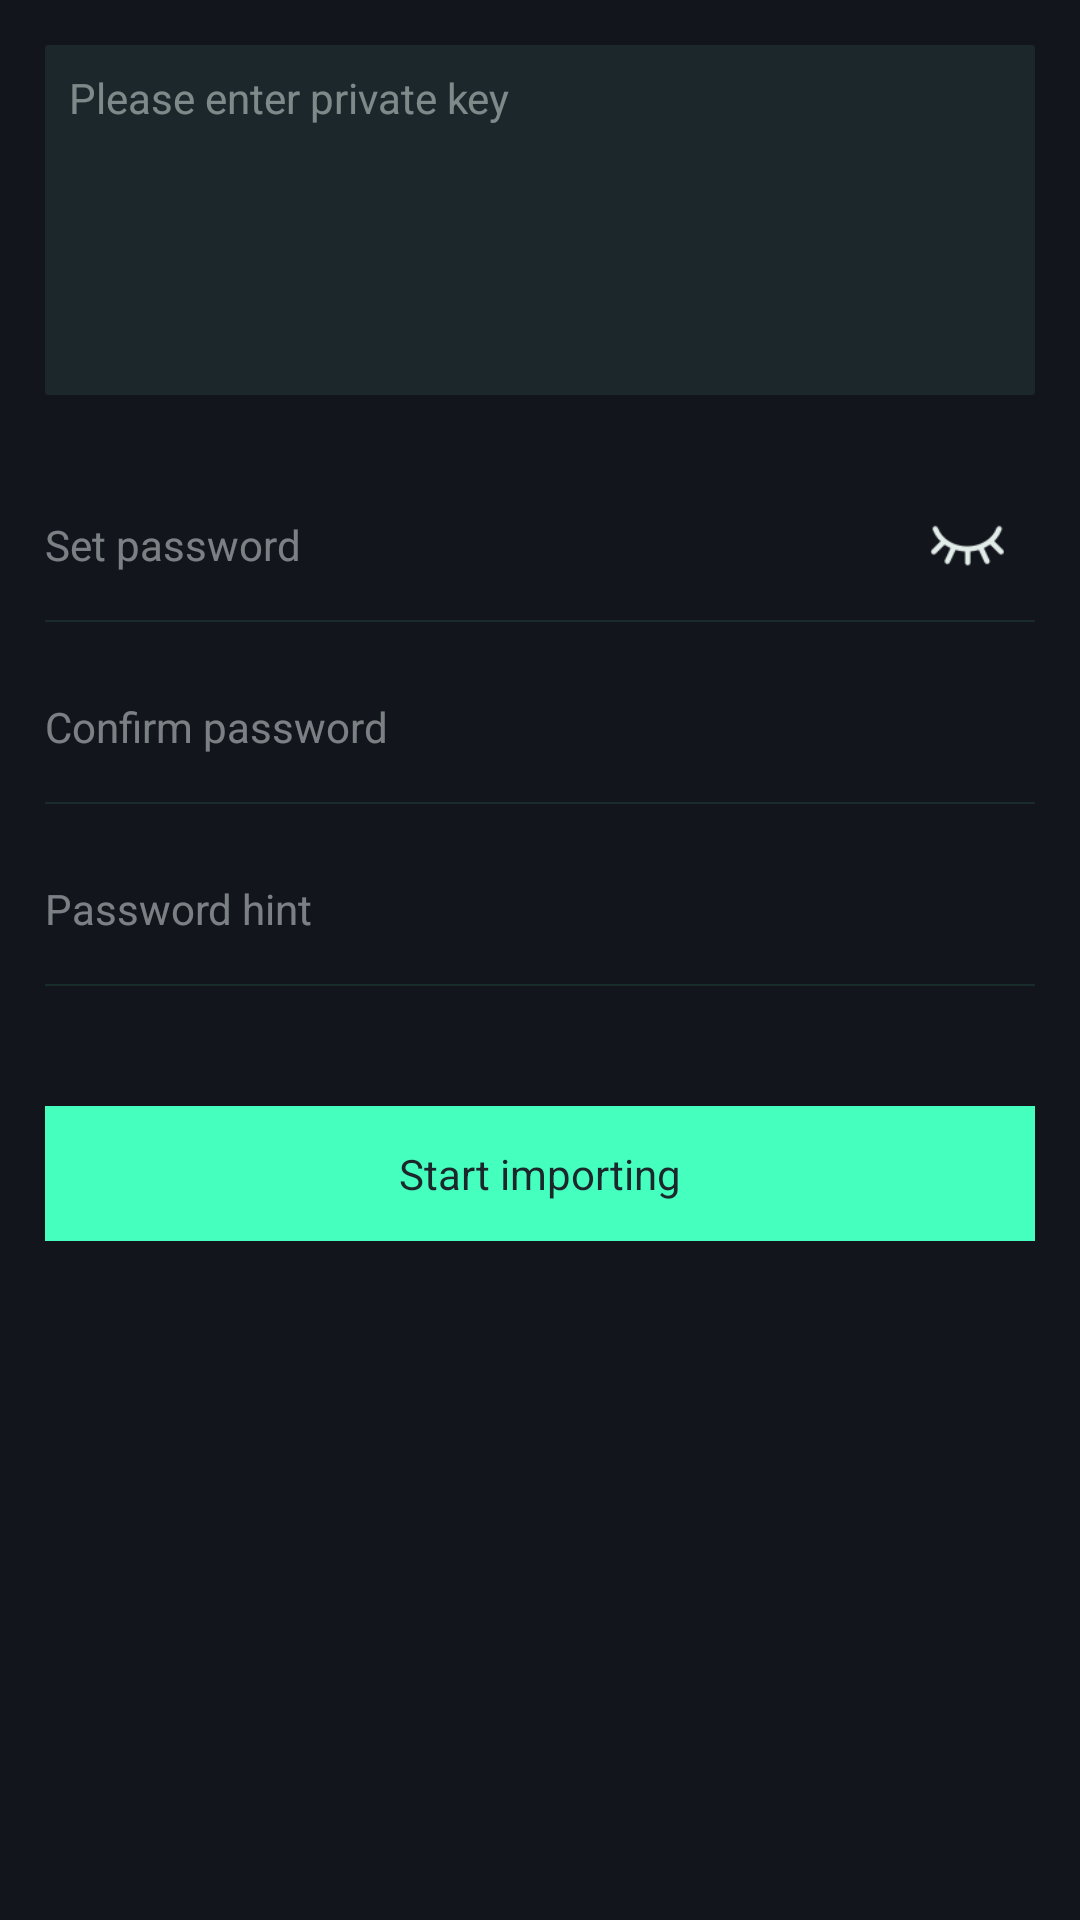

Screen size 1080 × 1920. Icon name, then its box in pixels as (x1, y1, x2, y2):
eye close: (931, 525, 1004, 566)
